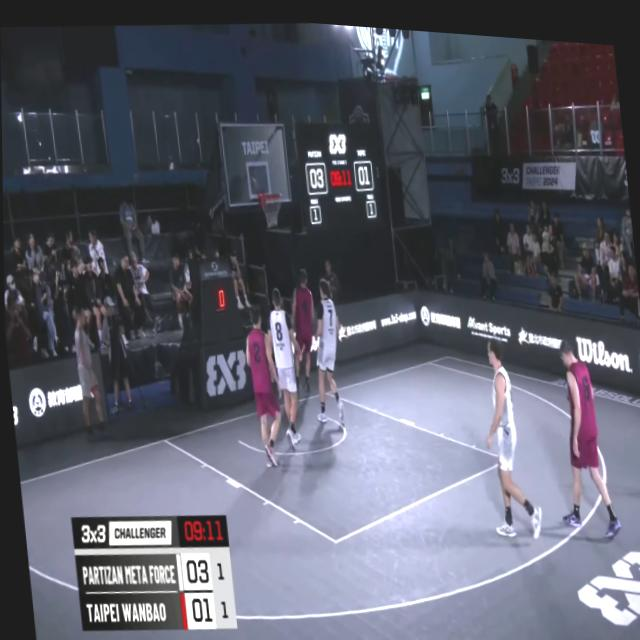hoop: (256, 185, 285, 226)
player: (543, 324, 622, 538), (474, 330, 541, 539), (240, 296, 285, 465), (263, 280, 308, 449), (302, 270, 346, 422), (285, 261, 322, 394)
